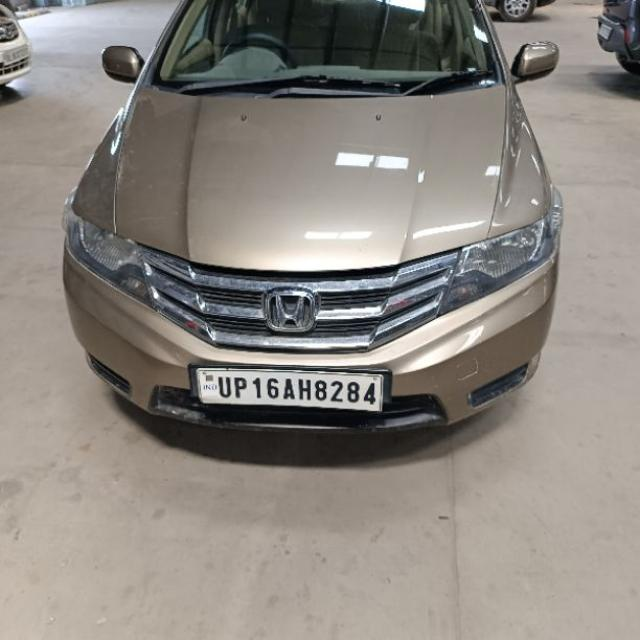license_plate: (189, 364, 388, 412)
